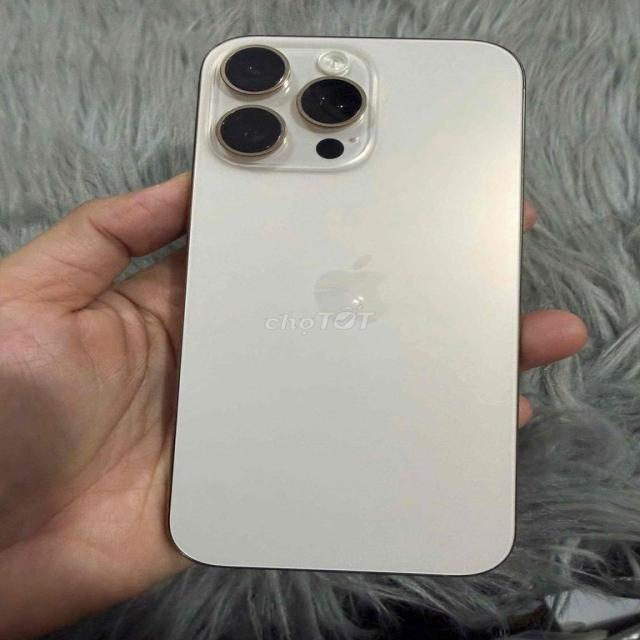gen_16: (170, 36, 523, 576)
